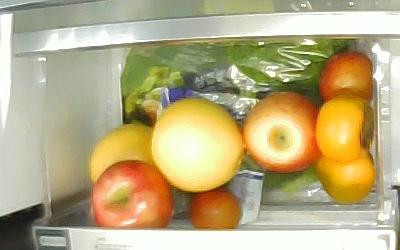apple: (242, 92, 318, 173), (91, 160, 173, 229)
grapefruit: (150, 97, 243, 192), (90, 124, 154, 183)
persimmon: (316, 133, 377, 204), (314, 95, 374, 161)
prune: (319, 52, 373, 113), (189, 187, 242, 229)
